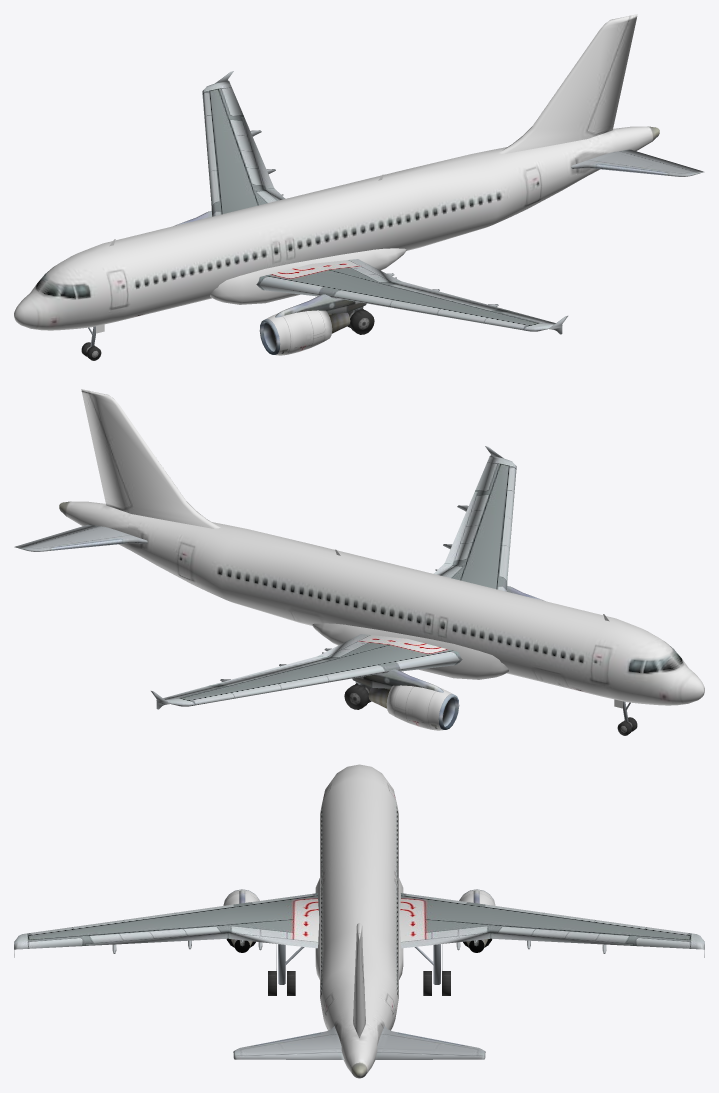
3 renders of one model, top to bottom at view 1: azimuth 30°, elevation 25°; view 2: azimuth 150°, elevation 25°; view 3: azimuth 270°, elevation 25°, orthographic. The views are drawn at different scales.
Parts seen in each view (by area): view 1: airframe, gear; view 2: airframe, gear; view 3: airframe, gear.
Boxes of the visible parts, x1,y1,x2,y2 form: airframe: (14, 14, 704, 355); gear: (81, 306, 374, 360); airframe: (14, 389, 704, 730); gear: (344, 681, 637, 735); airframe: (14, 764, 704, 1078); gear: (268, 944, 450, 995).
Size of the model in its own units: 37.62 by 11.78 by 33.85.
Materials: 1 (1 with a texture image).
